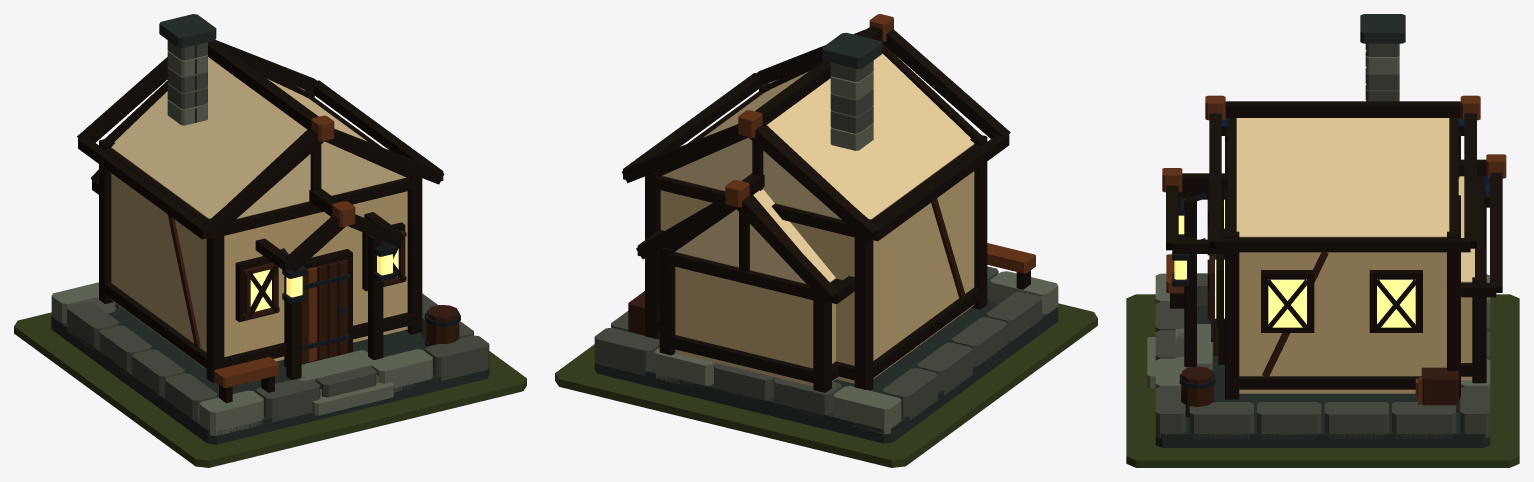
File: manor_hall_t3.glb
3 renders of one model, left to right at view 1: azimuth 30°, elevation 25°; view 2: azimuth 150°, elevation 25°; view 3: azimuth 270°, elevation 25°, orthographic. The views are drawn at different scales.
Visible parts, largest first — view 1: MMR | hall | T03 Architecture.001, MMR | hall | Tier 03 Ground.001; view 2: MMR | hall | T03 Architecture.001, MMR | hall | Tier 03 Ground.001; view 3: MMR | hall | T03 Architecture.001, MMR | hall | Tier 03 Ground.001.
Part boxes in pixels (bbox=[...]): MMR | hall | T03 Architecture.001: bbox=[51, 14, 489, 444]; MMR | hall | Tier 03 Ground.001: bbox=[14, 312, 526, 467]; MMR | hall | T03 Architecture.001: bbox=[594, 14, 1058, 443]; MMR | hall | Tier 03 Ground.001: bbox=[555, 303, 1097, 467]; MMR | hall | T03 Architecture.001: bbox=[1147, 14, 1506, 447]; MMR | hall | Tier 03 Ground.001: bbox=[1126, 294, 1519, 467].
Size of the model in its own units: 2.35 by 2.2 by 2.35.
2 materials, 1 textured.
